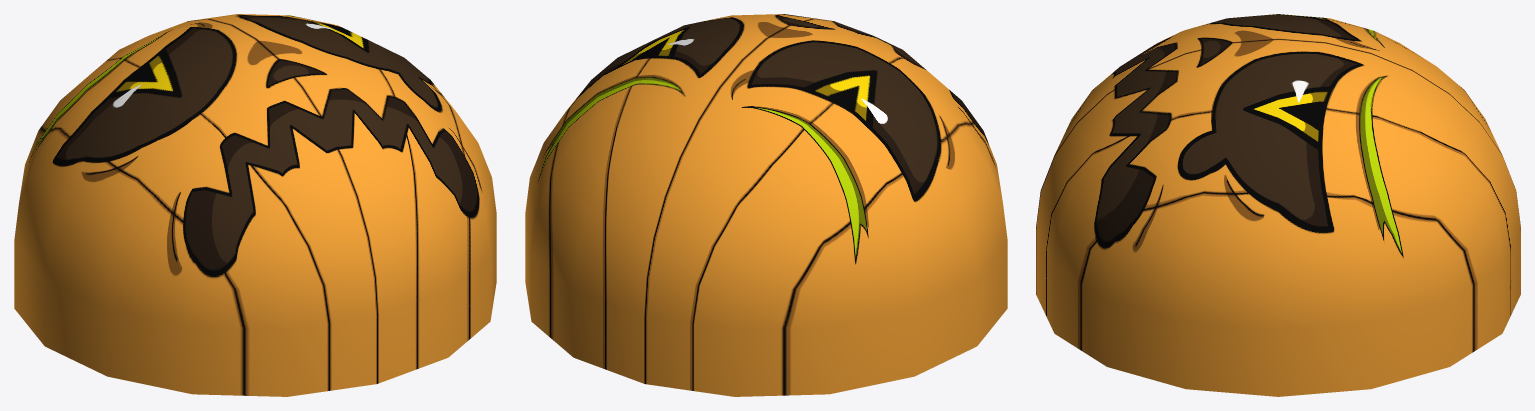
Rendered from pumpkin_c.fbx.
3 renders of one model, left to right at view 1: azimuth 30°, elevation 25°; view 2: azimuth 150°, elevation 25°; view 3: azimuth 270°, elevation 25°, orthographic.
Parts seen in each view (by area): view 1: pasted__pasted__pSphere1; view 2: pasted__pasted__pSphere1; view 3: pasted__pasted__pSphere1.
Boxes of the visible parts, x1=… form: pasted__pasted__pSphere1: x1=14, y1=14, x2=496, y2=396; pasted__pasted__pSphere1: x1=525, y1=14, x2=1007, y2=396; pasted__pasted__pSphere1: x1=1036, y1=14, x2=1520, y2=396.
Bounding box in the file's own units: 68.01 × 39.5 × 68.01.
1 material, 1 textured.
